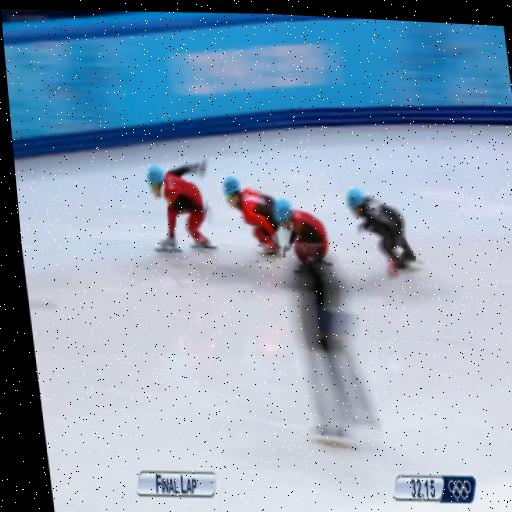Skater: (347, 189, 422, 277), (147, 161, 214, 251), (224, 177, 279, 255), (273, 199, 328, 269)
